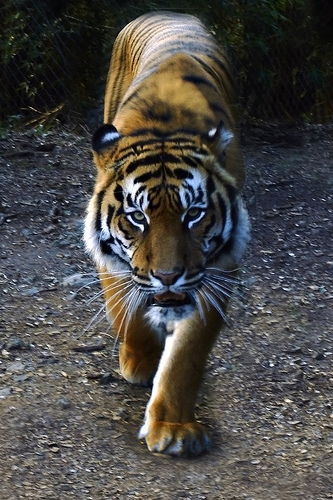Tigre: (92, 19, 261, 455)
